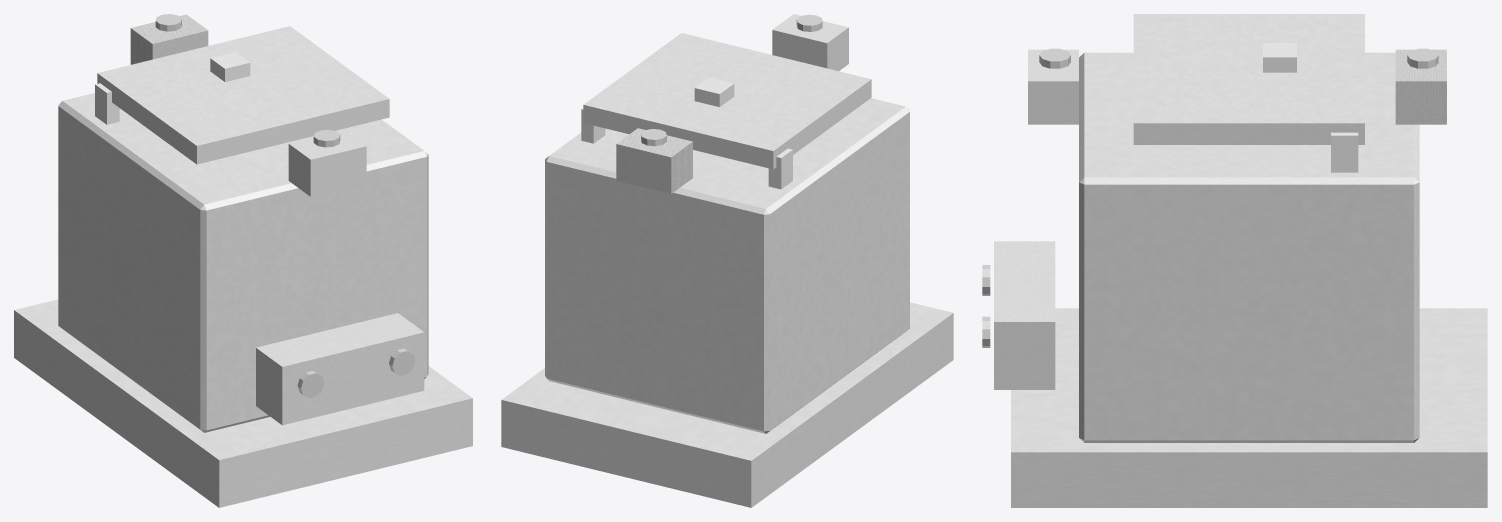
The model's file is switchgear_contactor.obj.
3 views of the same model, side by side, from view 1: azimuth 30°, elevation 25°; view 2: azimuth 150°, elevation 25°; view 3: azimuth 270°, elevation 25° (orthographic). The views are drawn at different scales.
Parts seen in each view (by area): view 1: Case, Base, Armature, Control, Terminal, NO, Indicator, Heatsink; view 2: Case, Base, Armature, Terminal, NO, Heatsink, Indicator; view 3: Case, Base, Armature, Control, Terminal, NO, Heatsink, Indicator.
Boxes of the visible parts, x1,y1,x2,y2 form: Case: (58,93,428,432); Base: (14,299,472,507); Armature: (97,26,389,164); Control: (256,313,424,425); Terminal: (130,14,415,397); NO: (288,130,366,196); Indicator: (210,52,250,81); Heatsink: (95,83,119,124); Case: (545,98,909,433); Base: (501,302,953,507); Armature: (583,33,871,169); Terminal: (616,14,822,193); NO: (772,14,848,71); Heatsink: (581,108,792,189); Indicator: (694,77,734,107); Case: (1079,52,1419,442); Base: (1011,308,1487,507); Armature: (1133,14,1364,144); Control: (994,241,1055,389); Terminal: (982,48,1446,347); NO: (1028,49,1078,124); Heatsink: (1331,132,1358,172); Indicator: (1263,43,1296,72).
Size of the model in its own units: 0.5 by 0.625 by 0.742.
